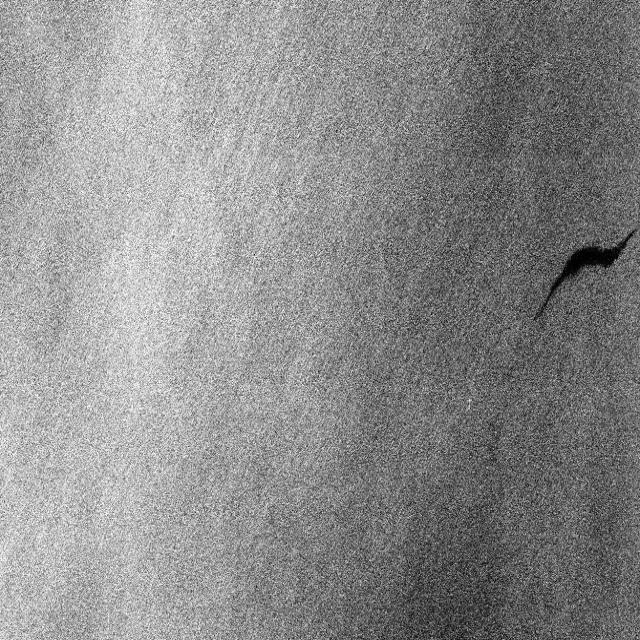oil-spill: (534, 210, 638, 330)
